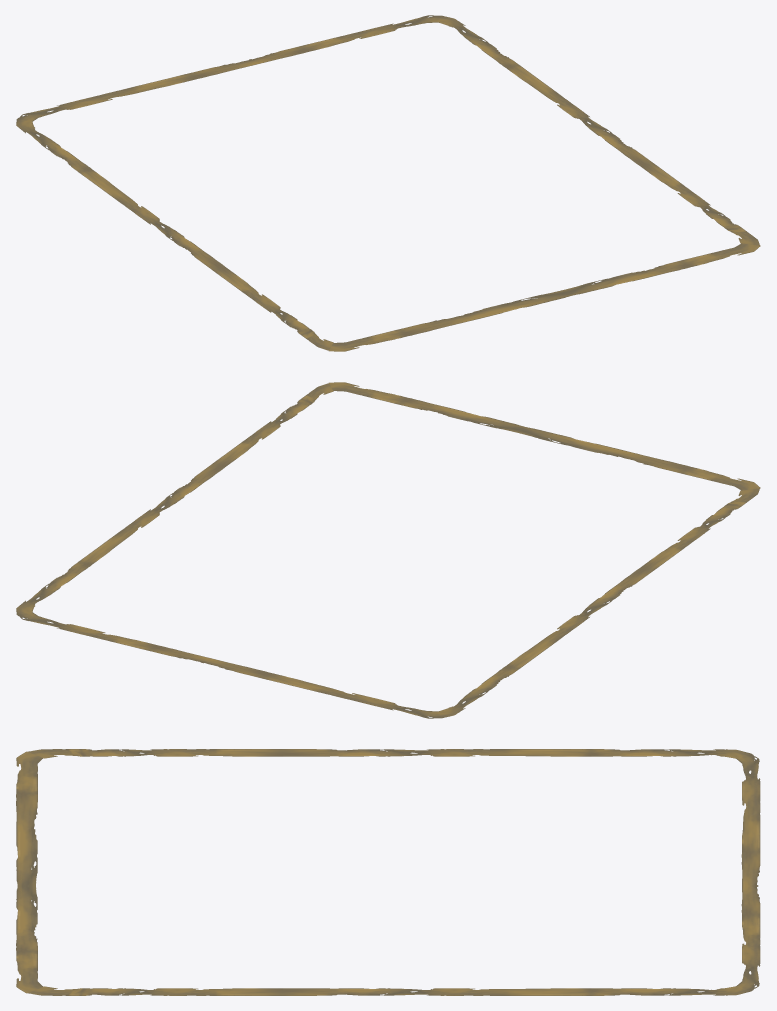
File: yellowline_04.fbx
3 renders of one model, top to bottom at view 1: azimuth 30°, elevation 25°; view 2: azimuth 150°, elevation 25°; view 3: azimuth 270°, elevation 25°, orthographic. The views are drawn at different scales.
Parts seen in each view (by area): view 1: yellowline_04; view 2: yellowline_04; view 3: yellowline_04.
Boxes of the visible parts, left/top/right/bottom form: yellowline_04: left=16, top=15, right=760, bottom=351; yellowline_04: left=16, top=382, right=760, bottom=718; yellowline_04: left=16, top=749, right=760, bottom=995.
Bounding box in the file's own units: 1095 × 0.000255 × 1393.
Materials: 1 (1 with a texture image).
